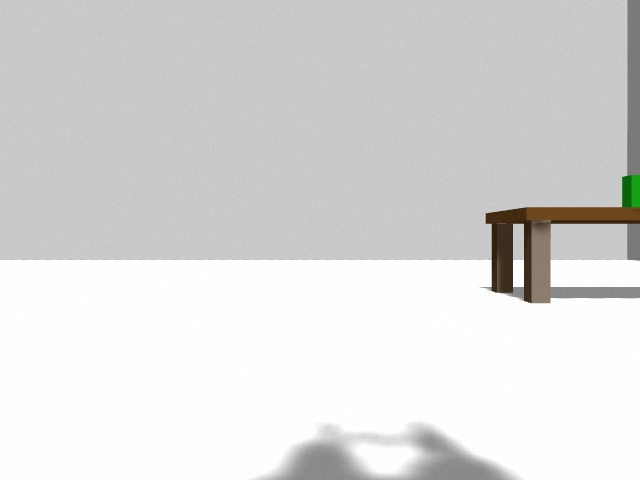green_cube: (622, 175, 640, 207)
